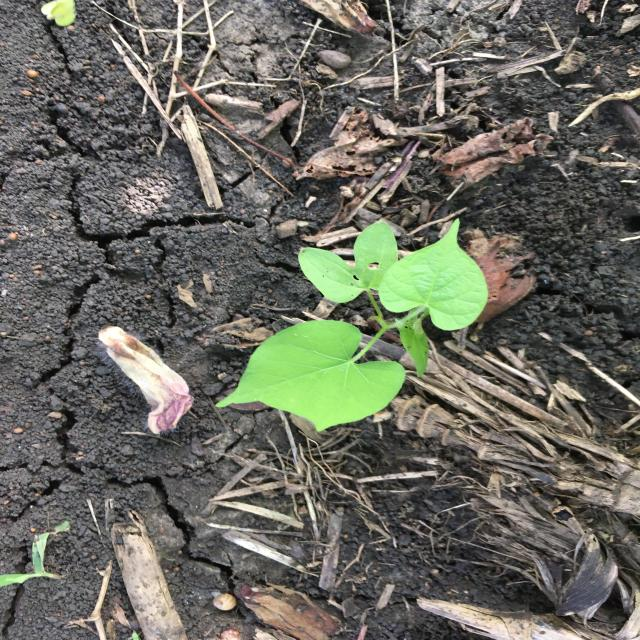MorningGlory: (212, 216, 490, 434)
